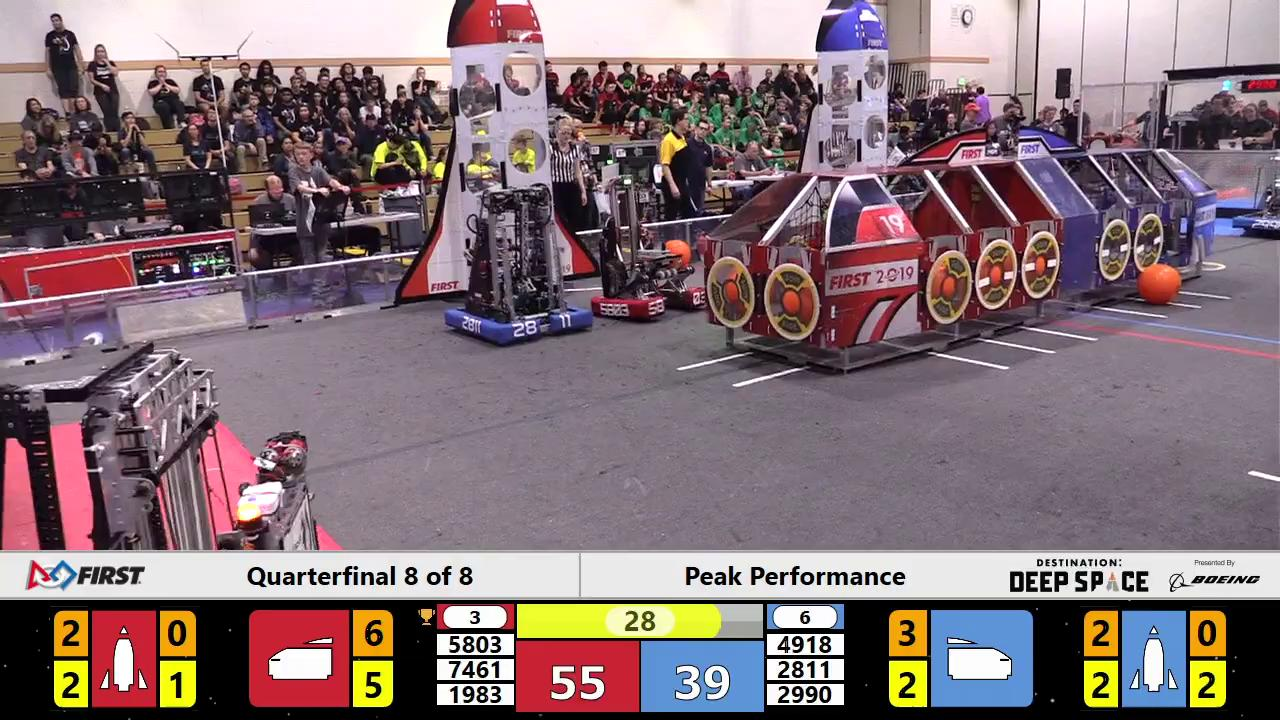robot: (447, 178, 592, 345), (591, 170, 707, 319), (1234, 168, 1280, 241)
